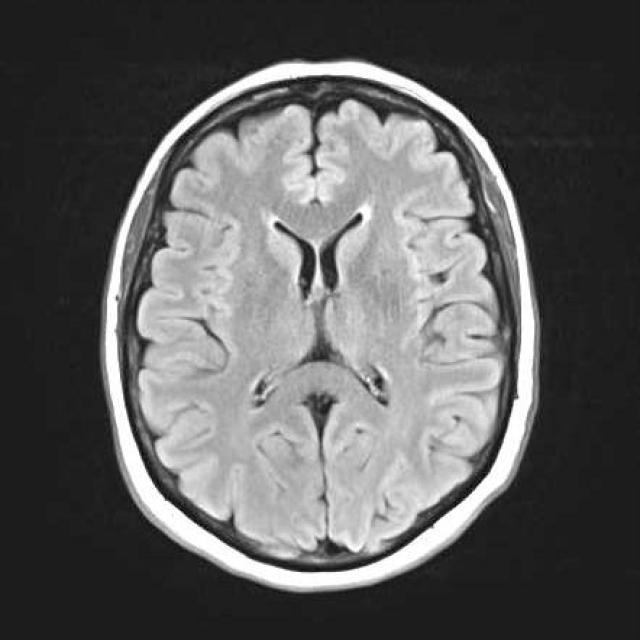notumor: (100, 62, 542, 597)
